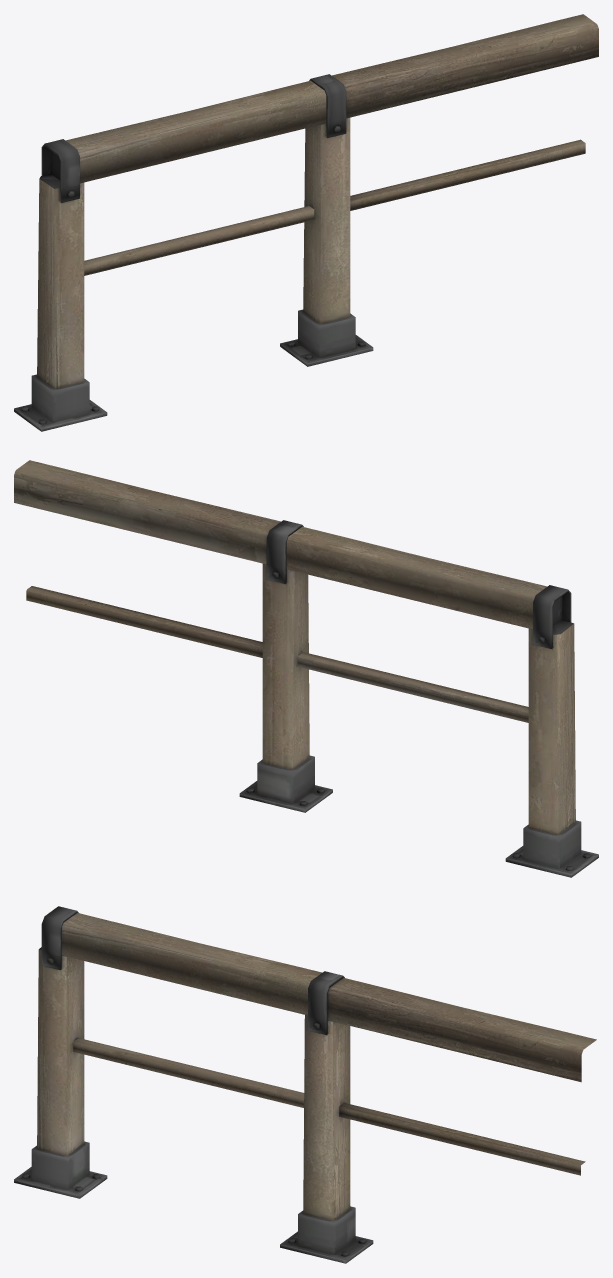
3 views of the same model, one above another, from view 1: azimuth 30°, elevation 25°; view 2: azimuth 150°, elevation 25°; view 3: azimuth 330°, elevation 25° (orthographic).
Parts seen in each view (by area): view 1: body0_model0_lod0_mesh0; view 2: body0_model0_lod0_mesh0; view 3: body0_model0_lod0_mesh0.
Part boxes in pixels (x1,y1,x2,y2): body0_model0_lod0_mesh0: [14, 14, 598, 431]; body0_model0_lod0_mesh0: [14, 460, 598, 877]; body0_model0_lod0_mesh0: [14, 906, 596, 1263].
Bounding box in the file's own units: 135 × 61.43 × 11.45.
1 material, 1 textured.
